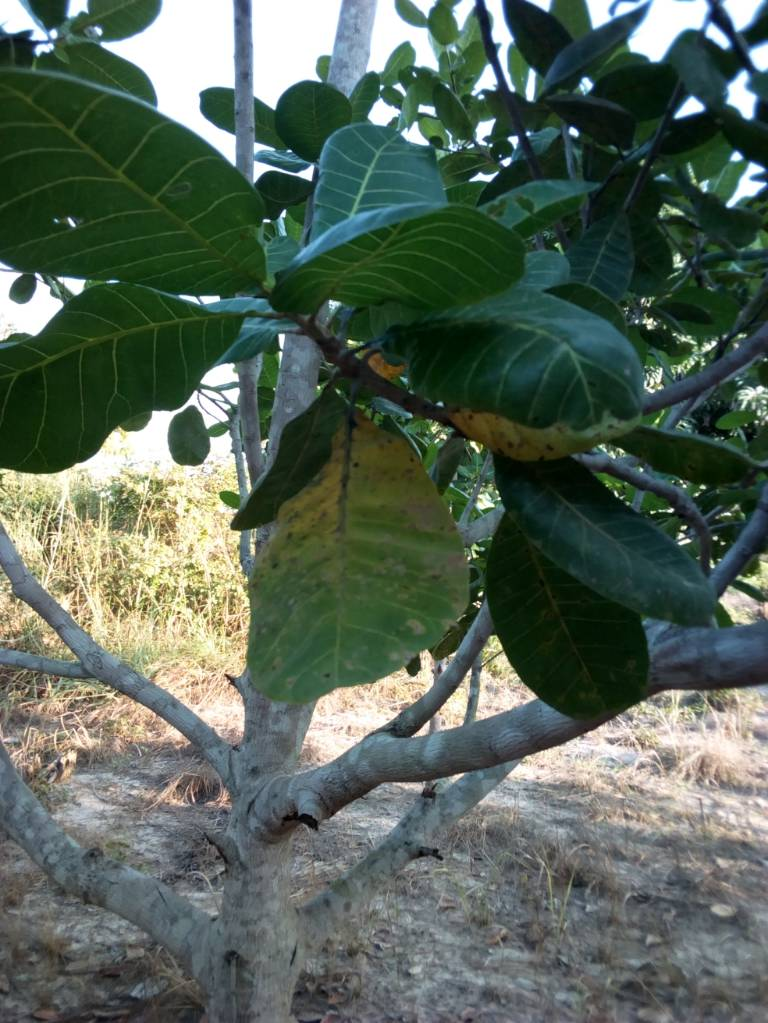Anthracnose: (241, 410, 460, 707), (430, 408, 646, 458)
